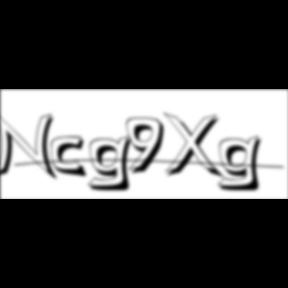9: (127, 117, 172, 177)
N: (0, 109, 62, 183)
X: (163, 112, 227, 182)
c: (51, 136, 91, 180)
g: (88, 134, 140, 194), (217, 134, 269, 194)
